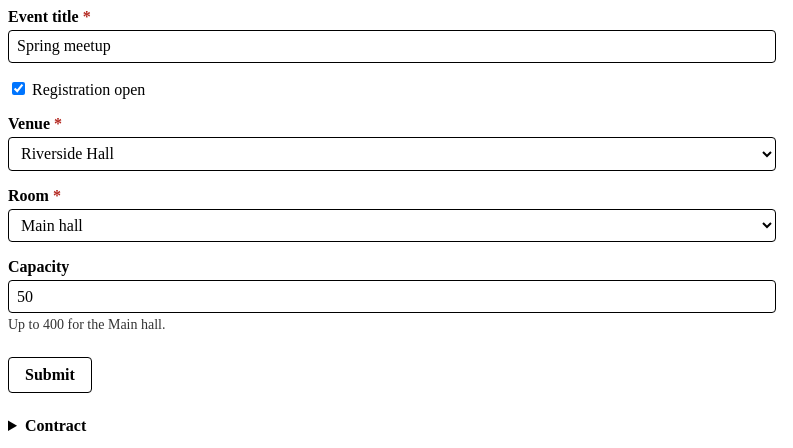
Test: the React form of example 2 › re-narrows the room when the venue changes, and shows the orphaned room stale
Expected: the dropdown labelled "Room*" shows "Main hall", [8, 209, 776, 242]
# The title is not something anything depends on: no narrowing.
Type "!" into the field labelled "Event title*" at x=392, y=46, box [8, 30, 776, 63]
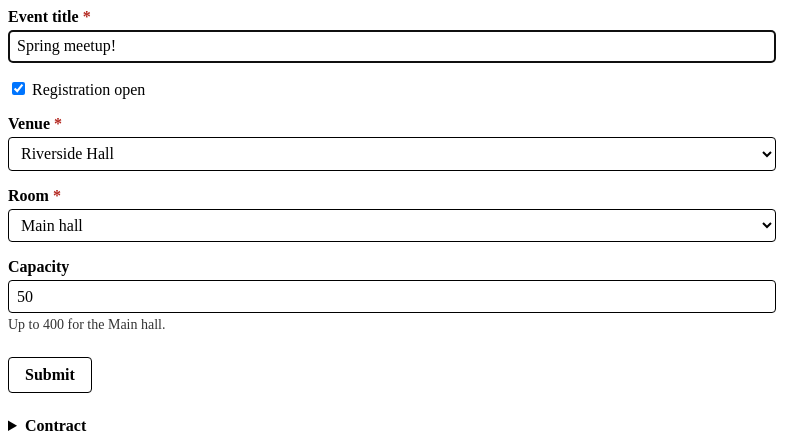
Select "Old Library" in the dropdown labelled "Venue*" at x=392, y=154, box [8, 137, 776, 171]
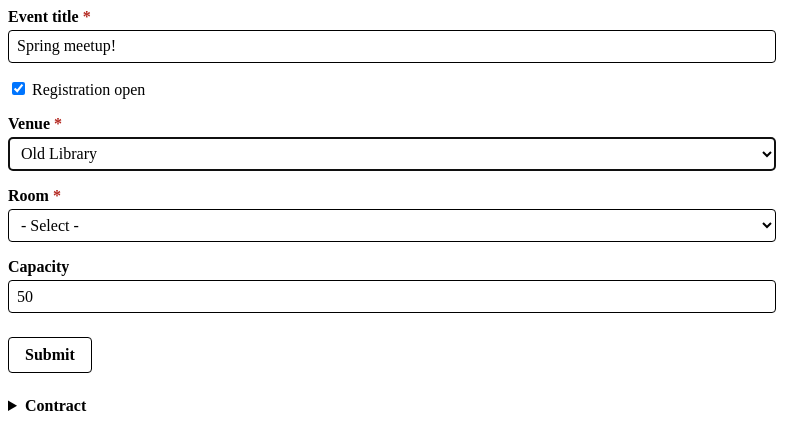
Expected: the field labelled "Event title*" holds "Spring meetup!", [8, 30, 776, 63]
Now the dropdown labelled "Room*" shows "- Select -", box [8, 209, 776, 242]
